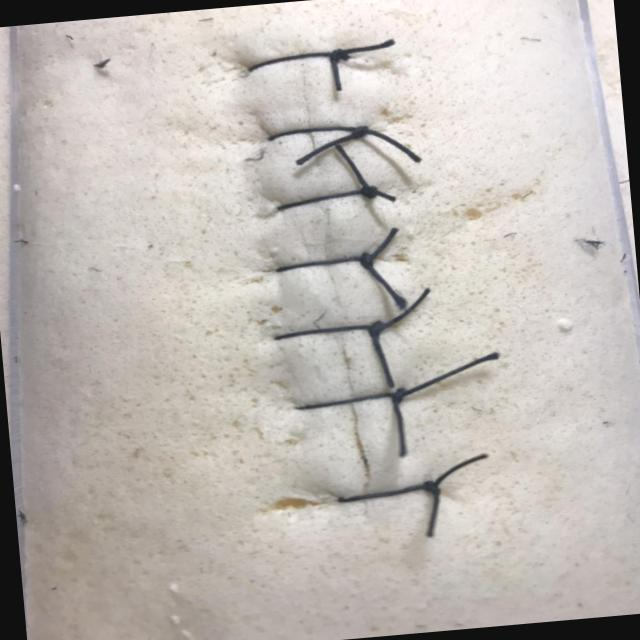knot: (422, 481, 440, 495), (391, 388, 407, 403), (369, 321, 385, 335), (330, 49, 348, 60), (361, 186, 377, 198), (360, 253, 372, 268), (352, 126, 368, 137)
leftover: (393, 352, 500, 398), (374, 286, 431, 331), (293, 129, 362, 166), (359, 258, 407, 310), (352, 129, 421, 164), (428, 452, 487, 488), (332, 142, 370, 192), (368, 326, 394, 389), (329, 38, 396, 57), (365, 225, 399, 262), (392, 393, 405, 457), (426, 483, 438, 538), (364, 187, 398, 202), (331, 52, 341, 93)
stitch: (274, 185, 379, 211), (294, 392, 408, 411), (244, 51, 350, 71), (334, 484, 440, 503), (270, 325, 386, 341), (265, 125, 370, 142), (272, 257, 375, 273)
wound: (296, 37, 370, 519)
